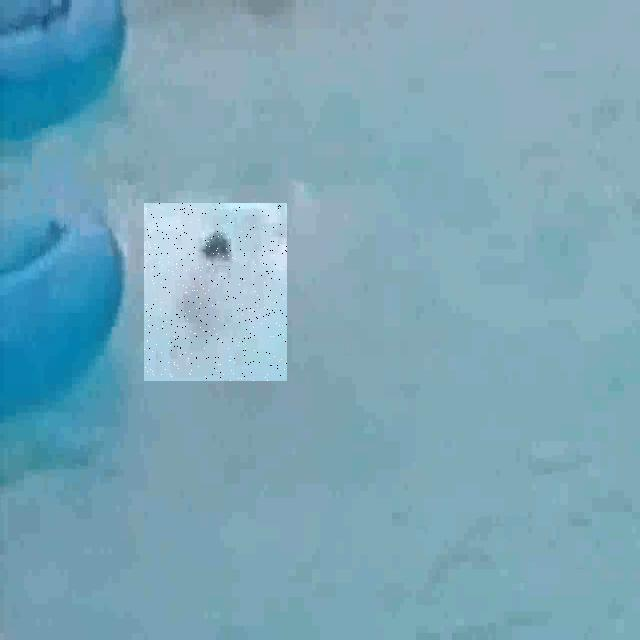Out of Water: (144, 203, 287, 381)
